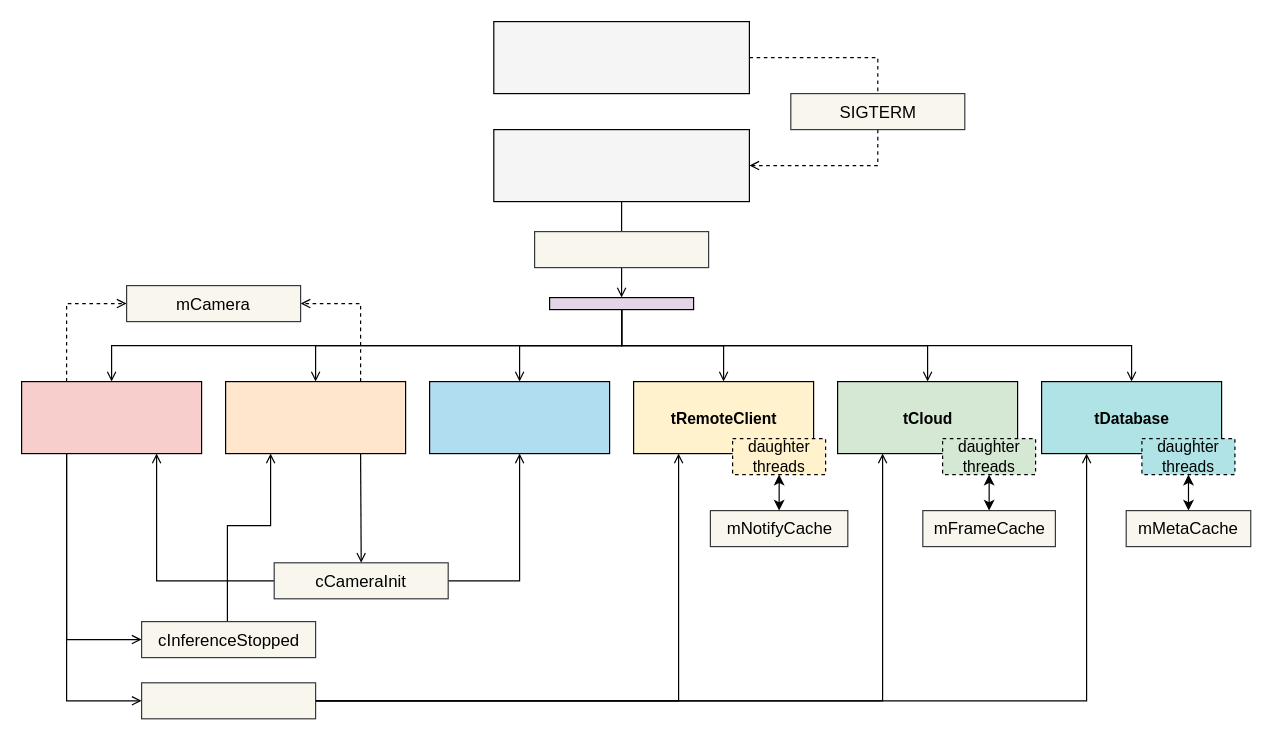
Some shapes in this 1272 by 739 pixel diagram are drawn without their labels. The shapes that lost their labels are listed below. From the top down, each one's centre as x and y in pixels, then its label:
the point at 621,57: Shutdown Daemon
the point at 621,165: Shutdown Handler
the point at 621,249: cTerminate
the point at 111,417: tMLInference
the point at 315,417: tCameraControl
the point at 519,417: tMain
the point at 228,700: cThreatFound
